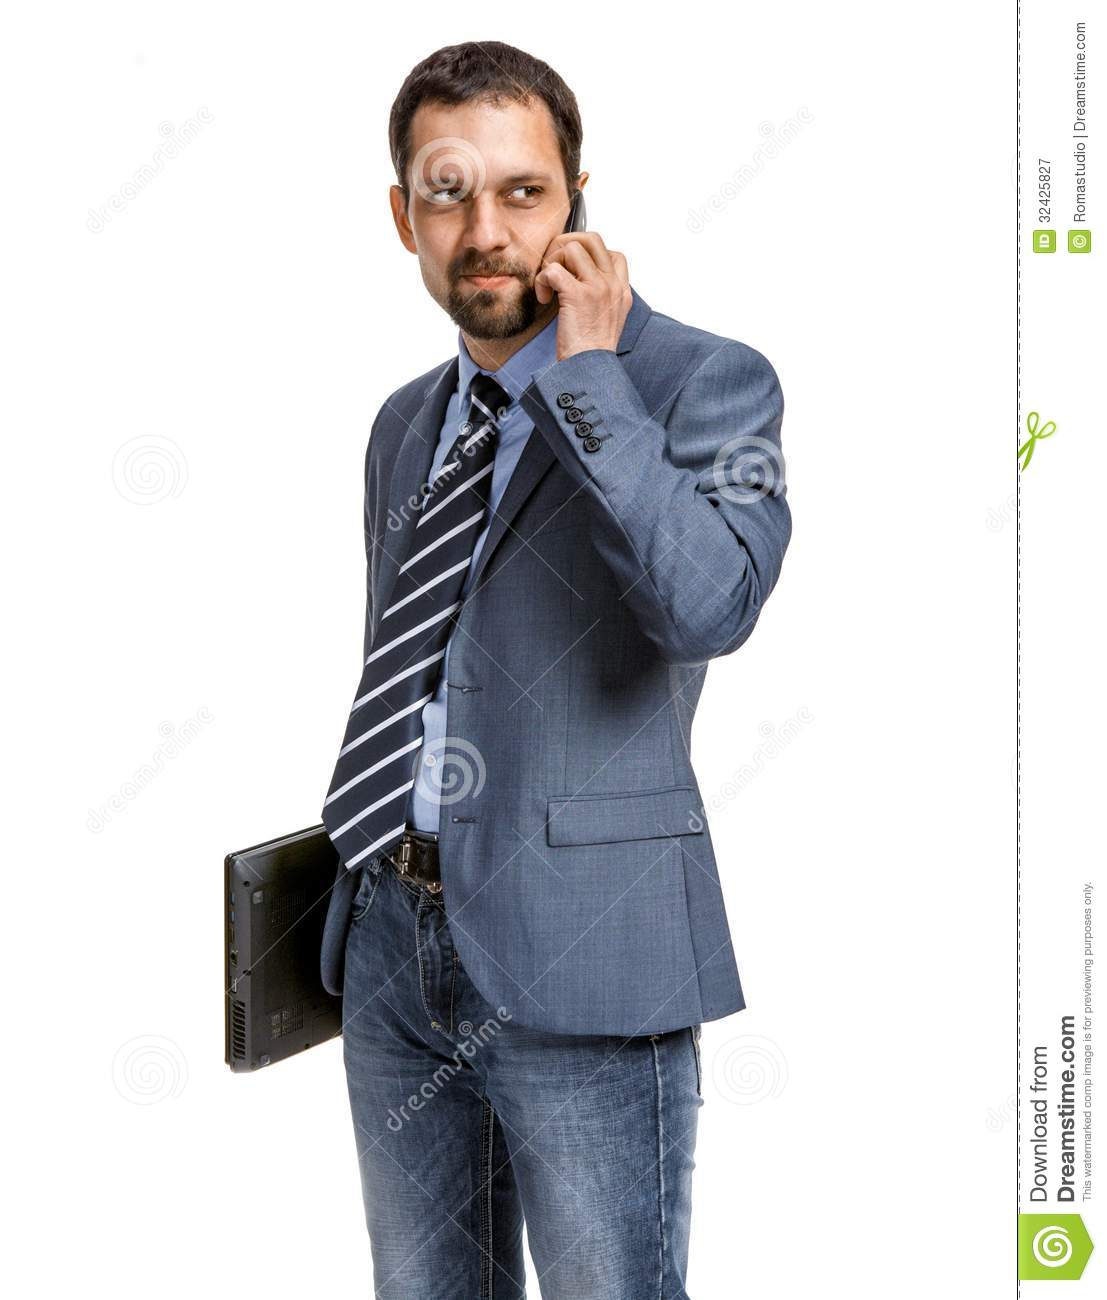phone: (553, 177, 595, 295)
talk: (415, 157, 638, 363)
